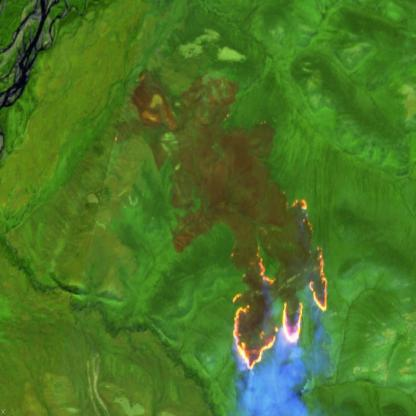fire: (229, 195, 330, 375)
